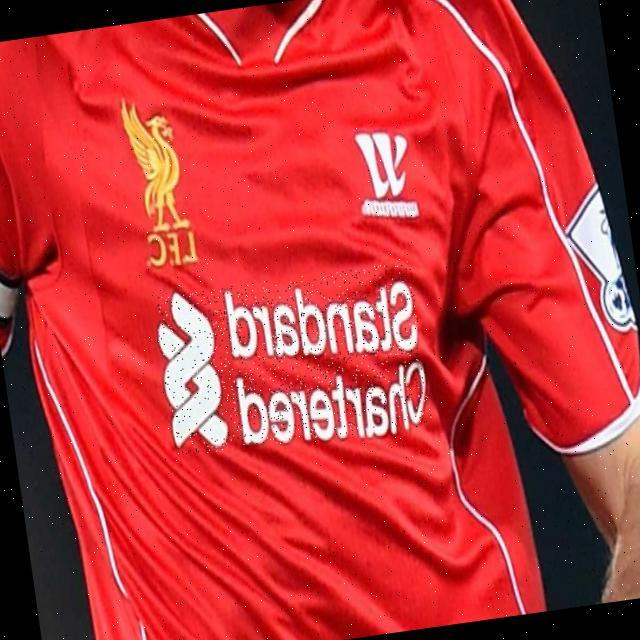Standard Chartered: (153, 261, 432, 458)
